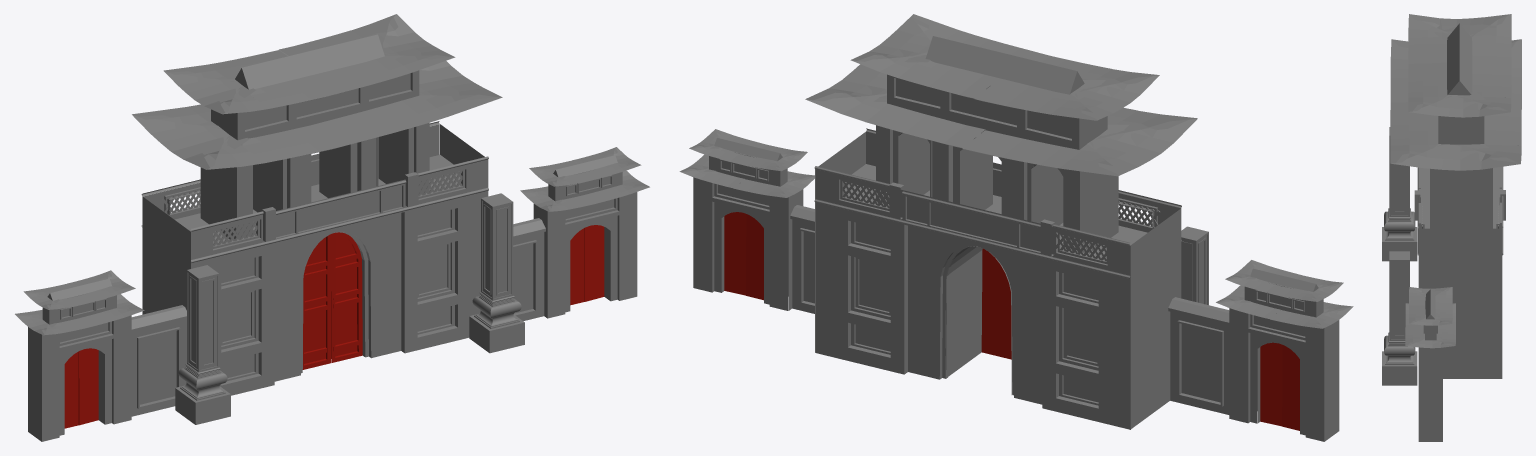
Rendered from cong.fbx.
The picture shows the model from 3 angles, left to right: view 1: azimuth 30°, elevation 25°; view 2: azimuth 150°, elevation 25°; view 3: azimuth 270°, elevation 25°; orthographic projection. The views are drawn at different scales.
Parts seen in each view (by area): view 1: Plane, Plane.003, Plane.004, gate, Cube.004, Cube.003, Plane.005, Cube.002; view 2: Plane, Plane.003, Plane.004, gate, Cube.003, Plane.005, Cube.004, Cube.002; view 3: Plane.004, Plane, Plane.003, Cube.004, Cube.003, Plane.005.
Boxes of the visible parts, <box> form: Plane: <box>142,124,488,395</box>; Plane.003: <box>28,70,637,441</box>; Plane.004: <box>15,14,649,335</box>; gate: <box>64,225,604,428</box>; Cube.004: <box>175,193,524,424</box>; Cube.003: <box>47,34,617,300</box>; Plane.005: <box>141,121,488,262</box>; Cube.002: <box>162,171,462,246</box>; Plane: <box>815,131,1181,429</box>; Plane.003: <box>693,62,1339,441</box>; Plane.004: <box>679,14,1353,328</box>; gate: <box>724,212,1299,430</box>; Cube.003: <box>714,36,1318,291</box>; Plane.005: <box>814,128,1181,278</box>; Cube.004: <box>1181,226,1208,304</box>; Cube.002: <box>842,181,1159,261</box>; Plane.004: <box>1390,14,1521,348</box>; Plane: <box>1414,167,1505,378</box>; Plane.003: <box>1418,116,1492,441</box>; Cube.004: <box>1382,127,1417,385</box>; Cube.003: <box>1425,23,1472,319</box>; Plane.005: <box>1417,166,1503,255</box>.
Bounding box in the file's own units: 18693 × 8894 × 4308.
